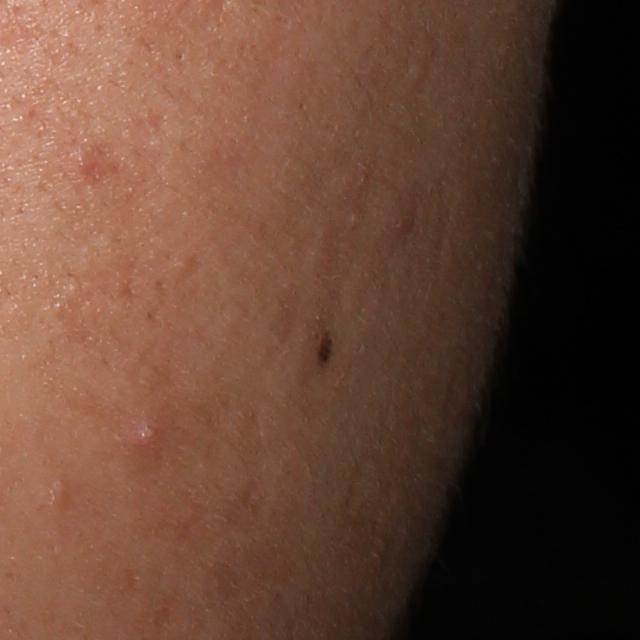comedo: (46, 475, 70, 505), (170, 255, 190, 273)
nevus: (315, 328, 335, 377)
papule: (126, 413, 169, 451), (73, 147, 97, 173)
